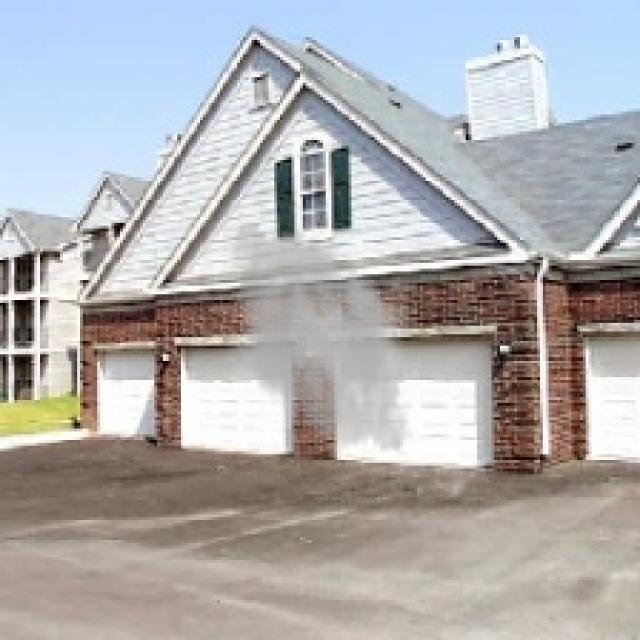smoke: (211, 214, 423, 463)
